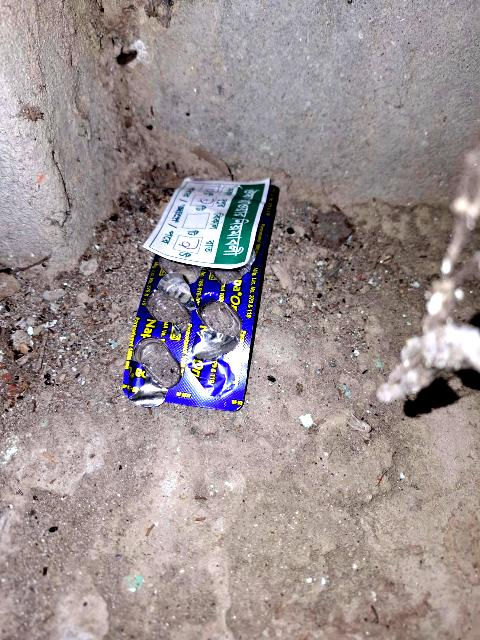medicine: (120, 161, 297, 426)
